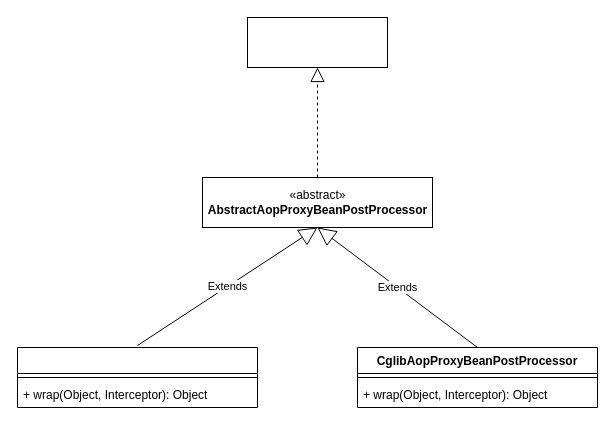
Some shapes in this 615 by 428 pixel diagram are drawn without their labels. The shapes that lost their labels are listed below. From the top down, each one's box as (x1, y1, x2, y2) in pixels, then its label:
(246, 16, 388, 68): «interface» BeanPostProcessor
(16, 346, 258, 408): JdkAopProxyBeanPostProcessor
